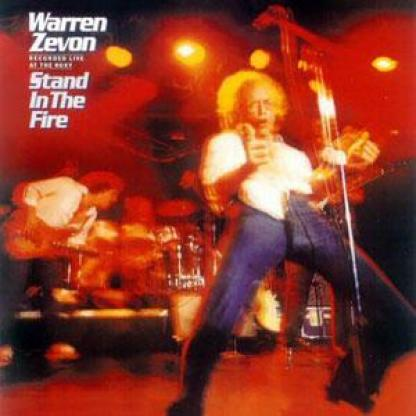other: (300, 76, 344, 127), (158, 27, 209, 64)
